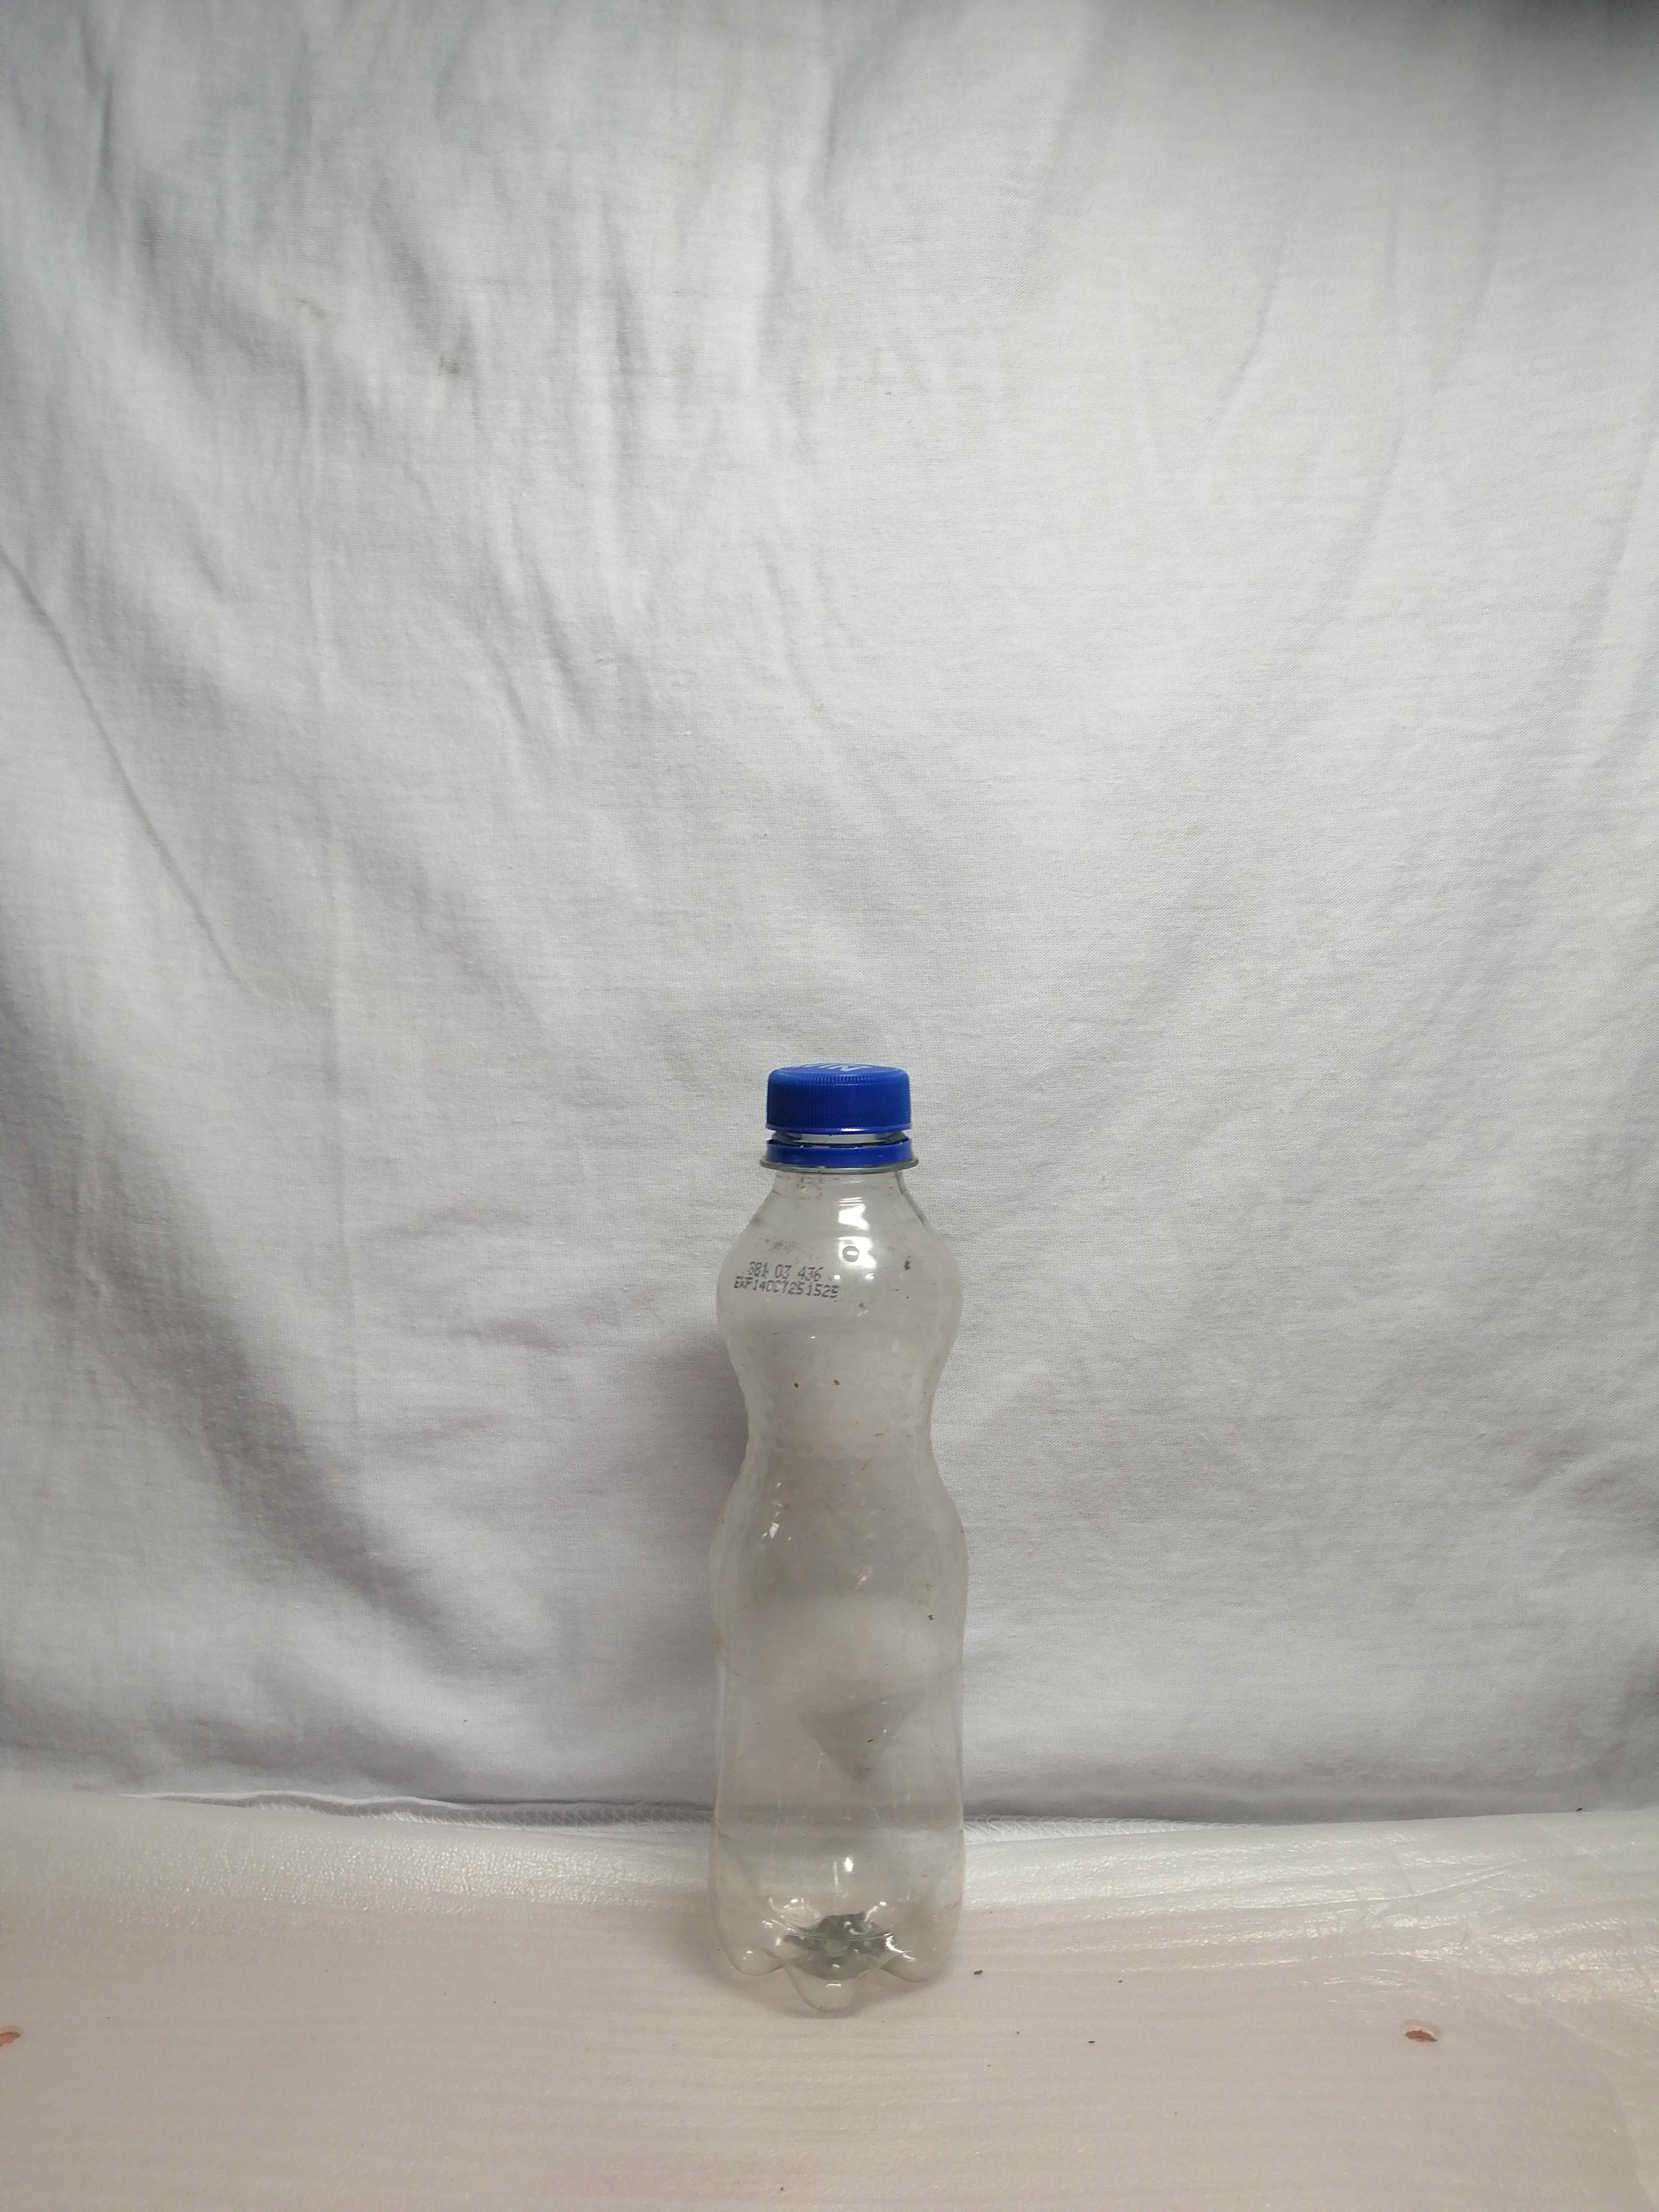plastic-bottle: (614, 1013, 1046, 2040)
